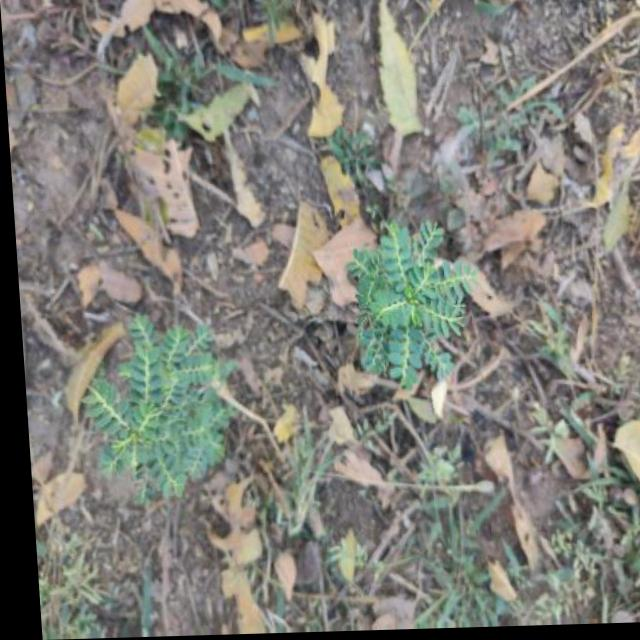weed: (71, 297, 233, 516), (334, 204, 477, 398)
